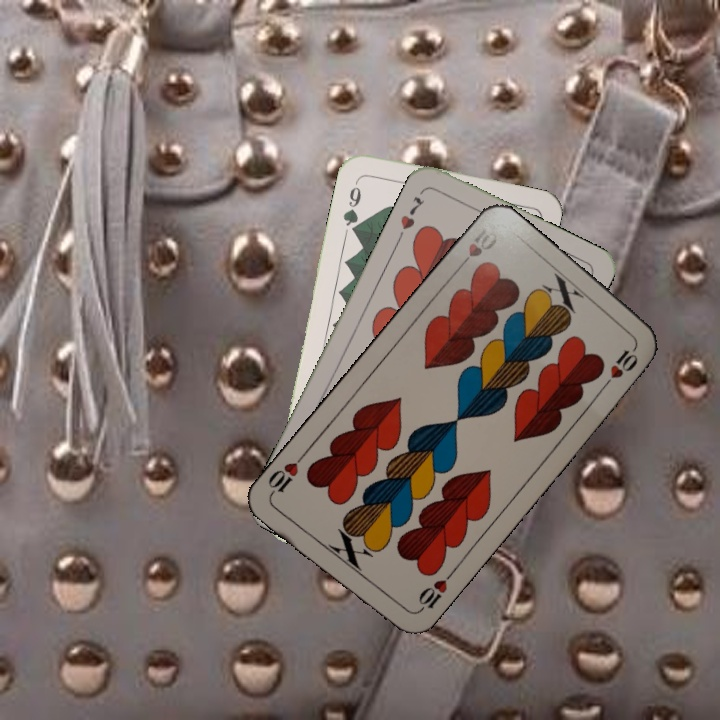G9: (339, 174, 364, 234)
H10: (453, 220, 501, 273), (411, 568, 456, 617)
H7: (394, 192, 427, 243)
